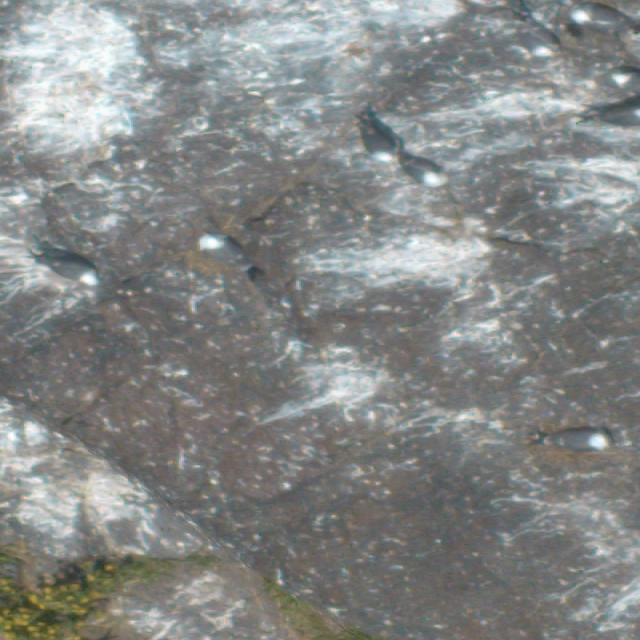umineko: (195, 232, 259, 278), (45, 259, 93, 281), (551, 432, 604, 451), (406, 162, 439, 183)
